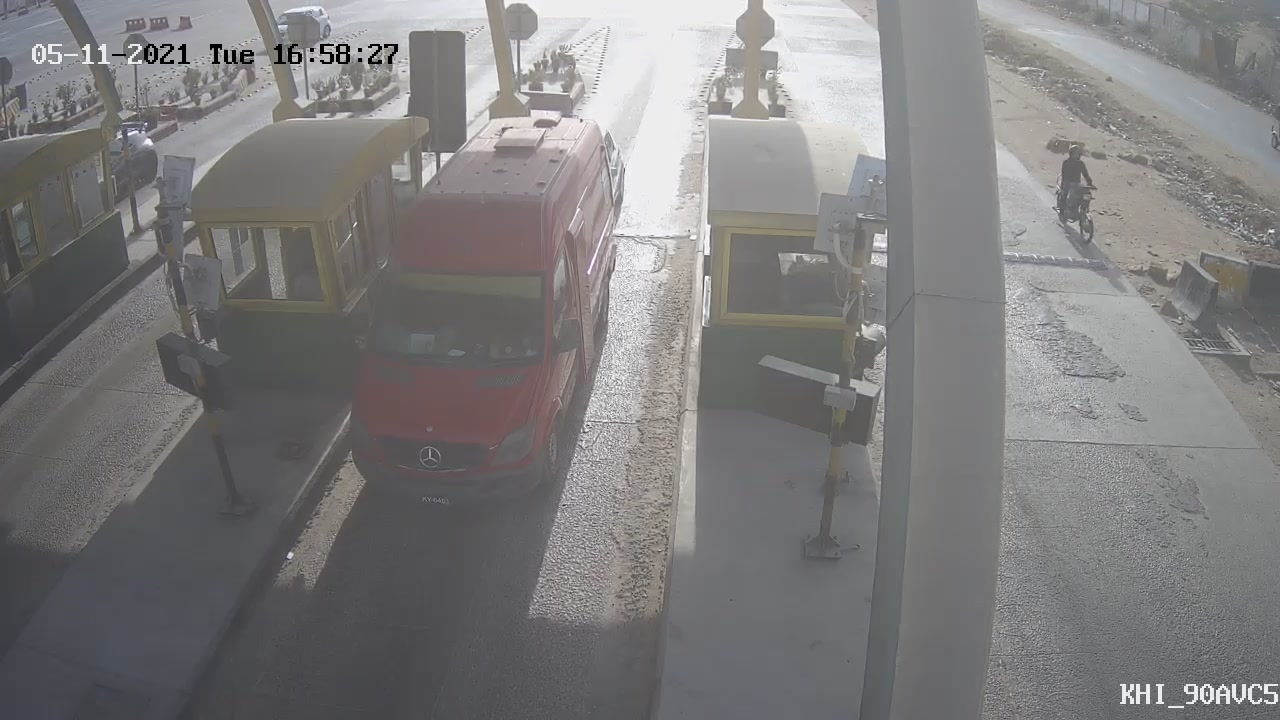F2: (308, 87, 642, 536)
